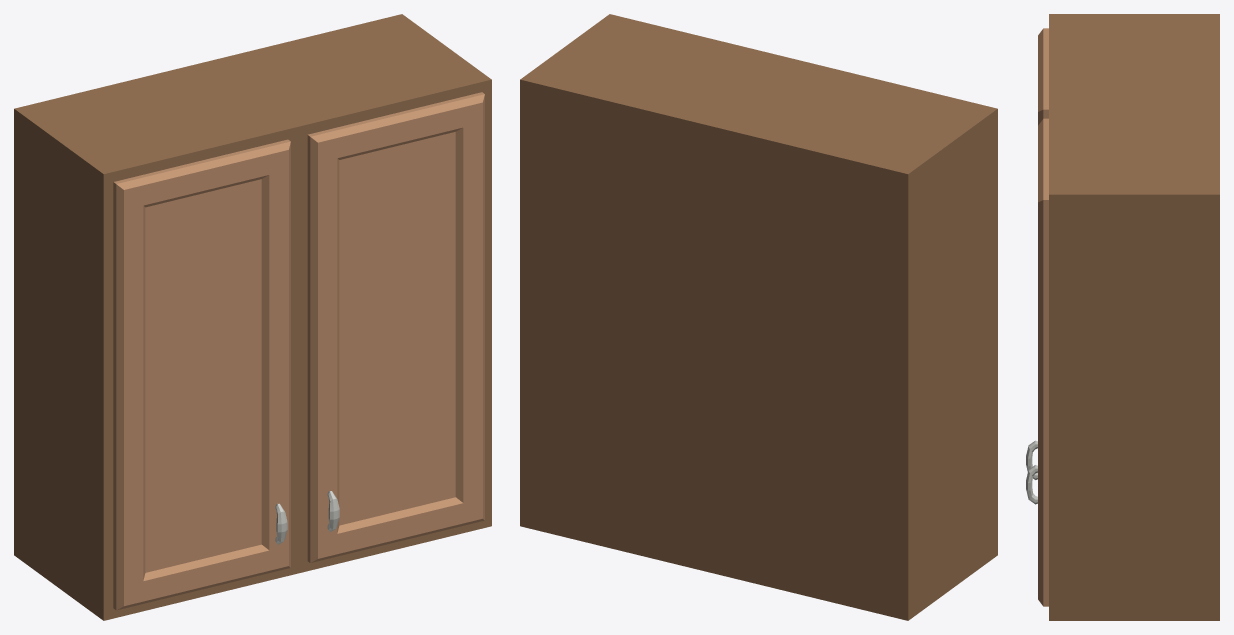
File: Kitchen_Cabinet_Wall_Full.obj
3 views of the same model, side by side, from view 1: azimuth 30°, elevation 25°; view 2: azimuth 150°, elevation 25°; view 3: azimuth 270°, elevation 25° (orthographic). The views are drawn at different scales.
Parts seen in each view (by area): view 1: object3, object5, object4; view 2: object3; view 3: object3, object4, object5, object1.
Part boxes in pixels (x1=…): object3: x1=14, y1=14, x2=491, y2=620; object5: x1=113, y1=139, x2=290, y2=610; object4: x1=307, y1=92, x2=484, y2=562; object3: x1=520, y1=14, x2=997, y2=620; object3: x1=1049, y1=14, x2=1219, y2=620; object4: x1=1038, y1=118, x2=1048, y2=606; object5: x1=1038, y1=28, x2=1048, y2=125; object1: x1=1026, y1=465, x2=1037, y2=504.
Bounding box in the file's own units: 1 × 1.1 × 0.4531.
